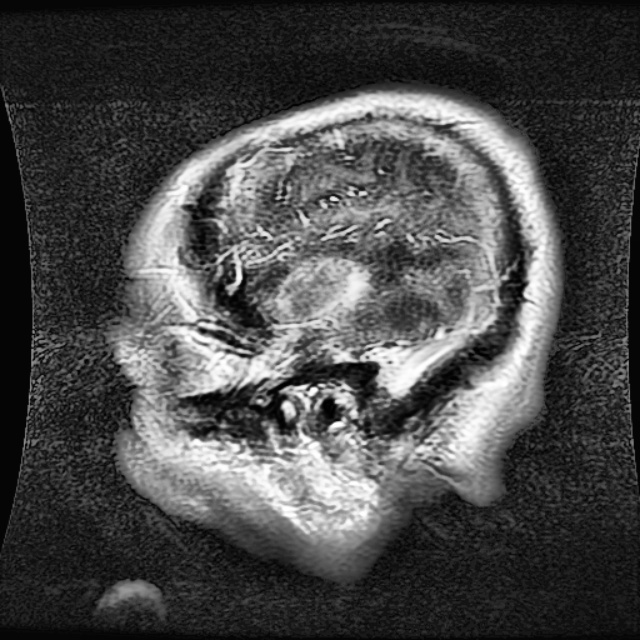Meningioma: (273, 258, 360, 318)
